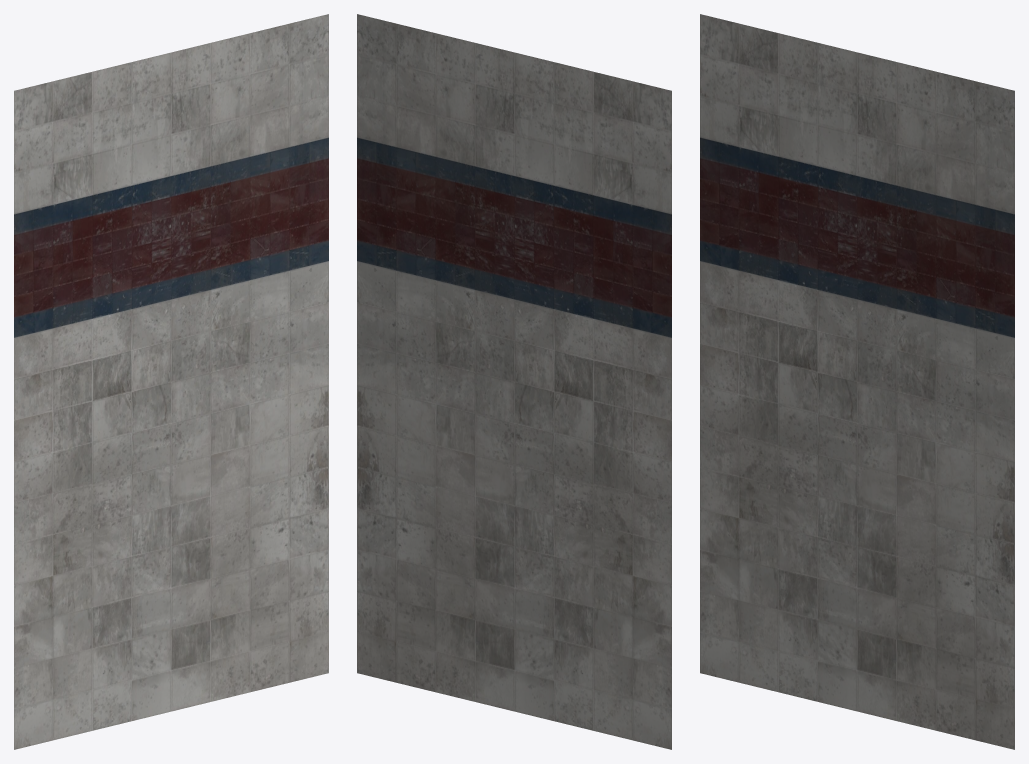
The model's file is SM_Wall_100u.glb.
The picture shows the model from 3 angles, left to right: view 1: azimuth 30°, elevation 25°; view 2: azimuth 150°, elevation 25°; view 3: azimuth 330°, elevation 25°; orthographic projection.
Visible parts, largest first — view 1: SM_Wall_100u; view 2: SM_Wall_100u; view 3: SM_Wall_100u.
Part boxes in pixels (left/top/right/bottom): SM_Wall_100u: left=14, top=14, right=328, bottom=749; SM_Wall_100u: left=357, top=14, right=671, bottom=749; SM_Wall_100u: left=700, top=14, right=1014, bottom=749.
Size of the model in its own units: 1.3 by 2.6 by 1.59e-16.
Materials: 1 (1 with a texture image).
